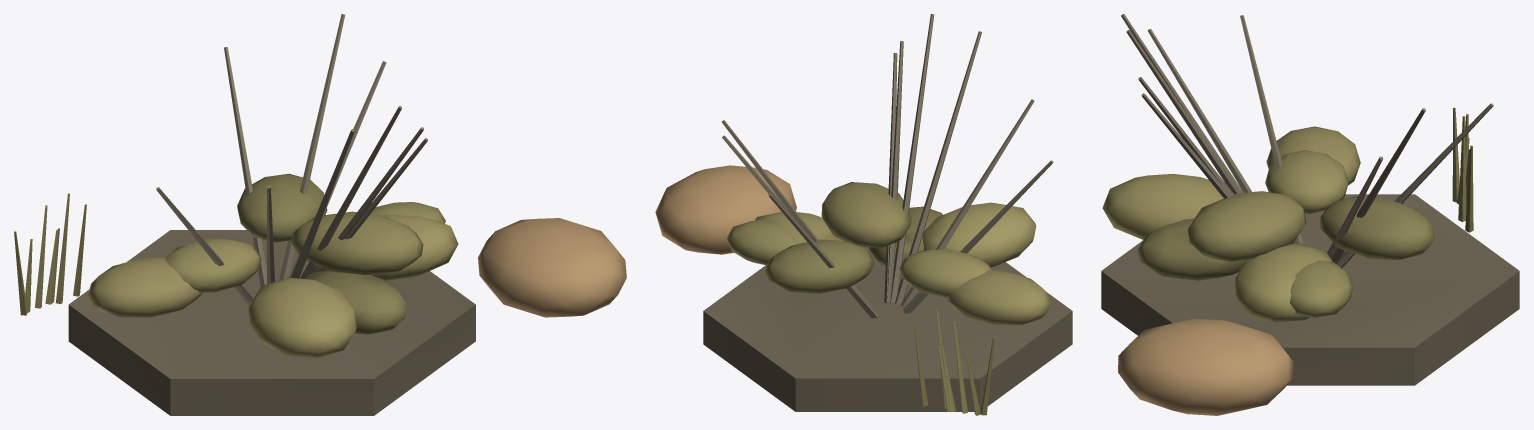
File: desert_scrub_c.glb
3 renders of one model, left to right at view 1: azimuth 30°, elevation 25°; view 2: azimuth 150°, elevation 25°; view 3: azimuth 270°, elevation 25°, orthographic. The views are drawn at different scales.
Parts seen in each view (by area): view 1: Surface; view 2: Surface; view 3: Surface.
Part boxes in pixels (x1,y1,x2,y2): Surface: (14, 14, 626, 415); Surface: (655, 14, 1072, 415); Surface: (1101, 14, 1519, 415).
Size of the model in its own units: 4.08 by 2.36 by 3.
